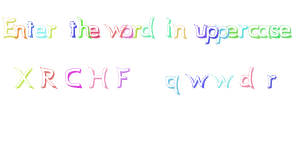C: (64, 67, 84, 88)
E: (1, 15, 17, 39)
F: (115, 65, 131, 89)
H: (86, 64, 110, 90)
R: (40, 65, 58, 90)
X: (14, 64, 35, 91)
a: (257, 24, 271, 39)
c: (248, 24, 260, 39)
d: (238, 65, 256, 89), (141, 15, 156, 39)
e: (279, 23, 292, 40), (87, 24, 100, 40), (226, 24, 239, 40), (34, 23, 46, 39)
h: (77, 14, 89, 38)
i: (162, 16, 174, 38)
n: (172, 23, 187, 39), (13, 24, 27, 39)
o: (120, 23, 133, 39)
p: (205, 24, 219, 46), (215, 24, 229, 46)
q: (163, 74, 182, 96)
r: (265, 72, 278, 89), (45, 23, 58, 39), (131, 23, 142, 39), (238, 24, 249, 39)
s: (268, 23, 280, 39)
t: (66, 18, 78, 38), (26, 19, 35, 37)
u: (192, 23, 208, 38)
w: (185, 72, 209, 89), (210, 73, 234, 89), (103, 23, 124, 40)
